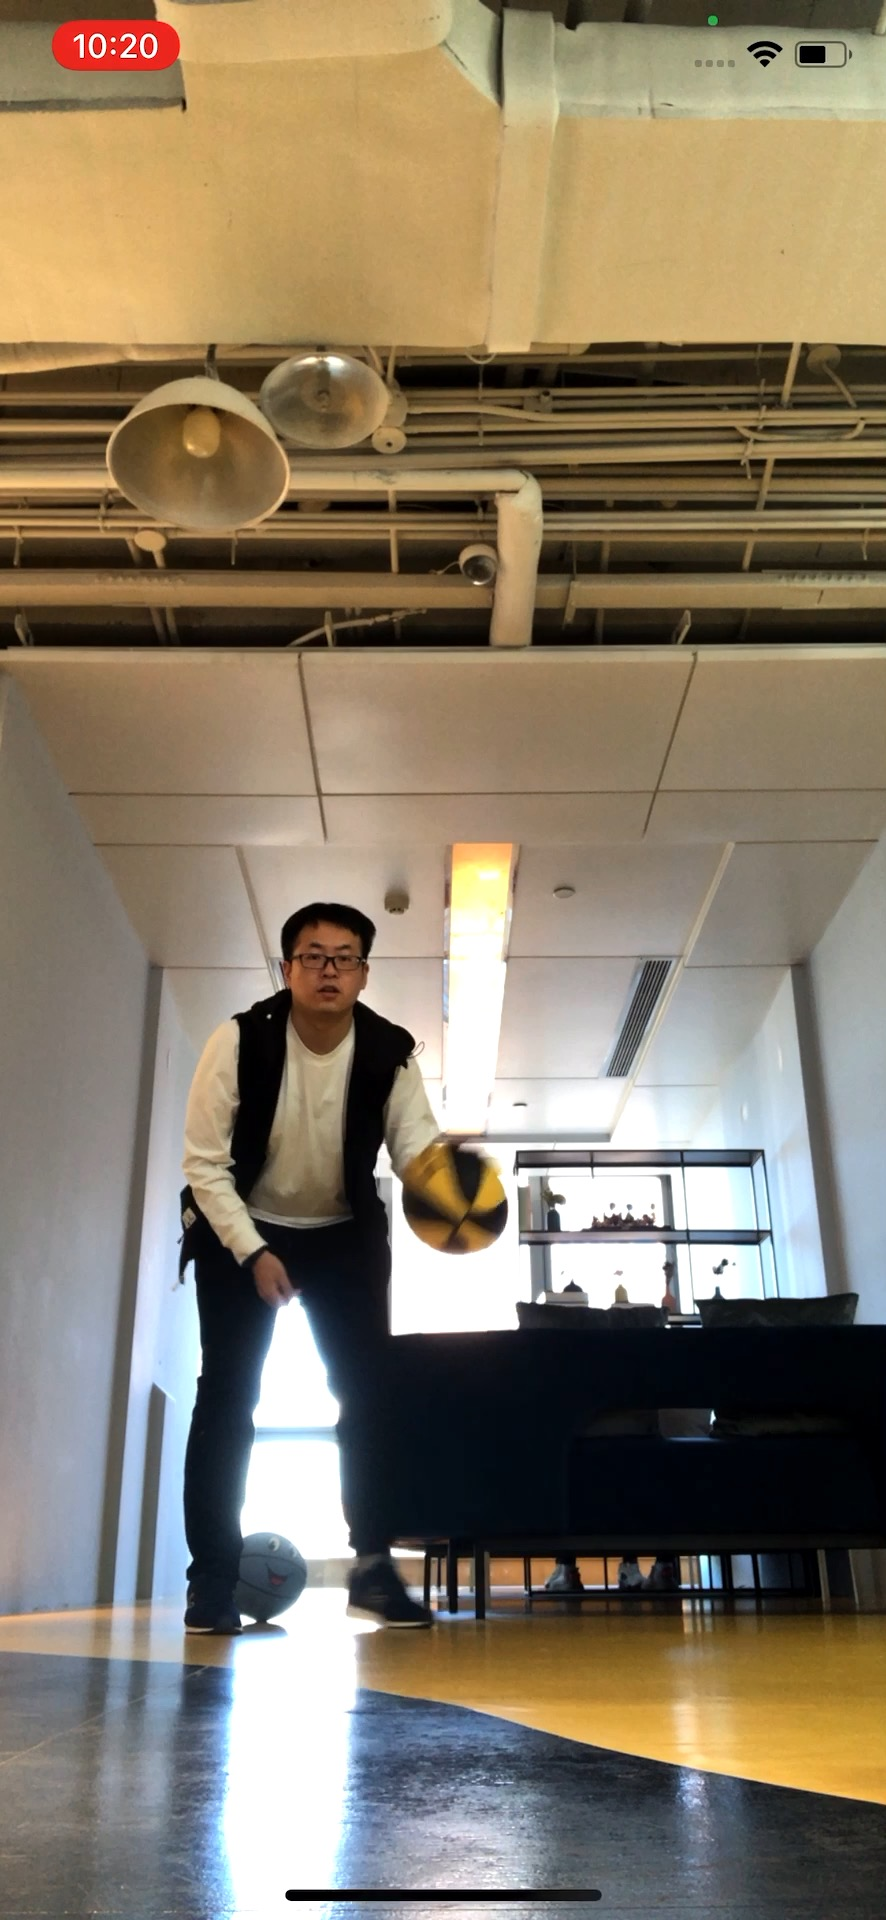ball: (404, 1151, 516, 1255), (235, 1536, 308, 1621)
